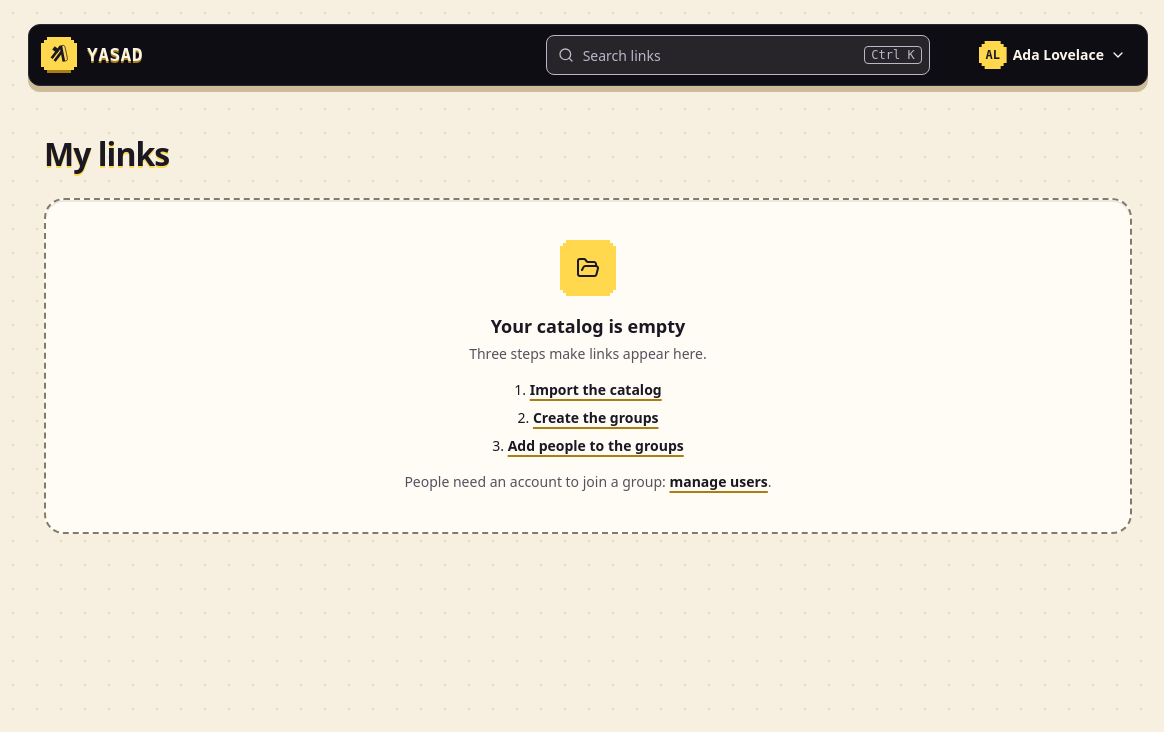
App › shows the account menu and signs out from it
This screenshot has width=1164, height=732.
Click the button with aria-label "Account menu for Ada Lovelace" at [1052, 55], box x1=970 y1=33 x2=1135 y2=77
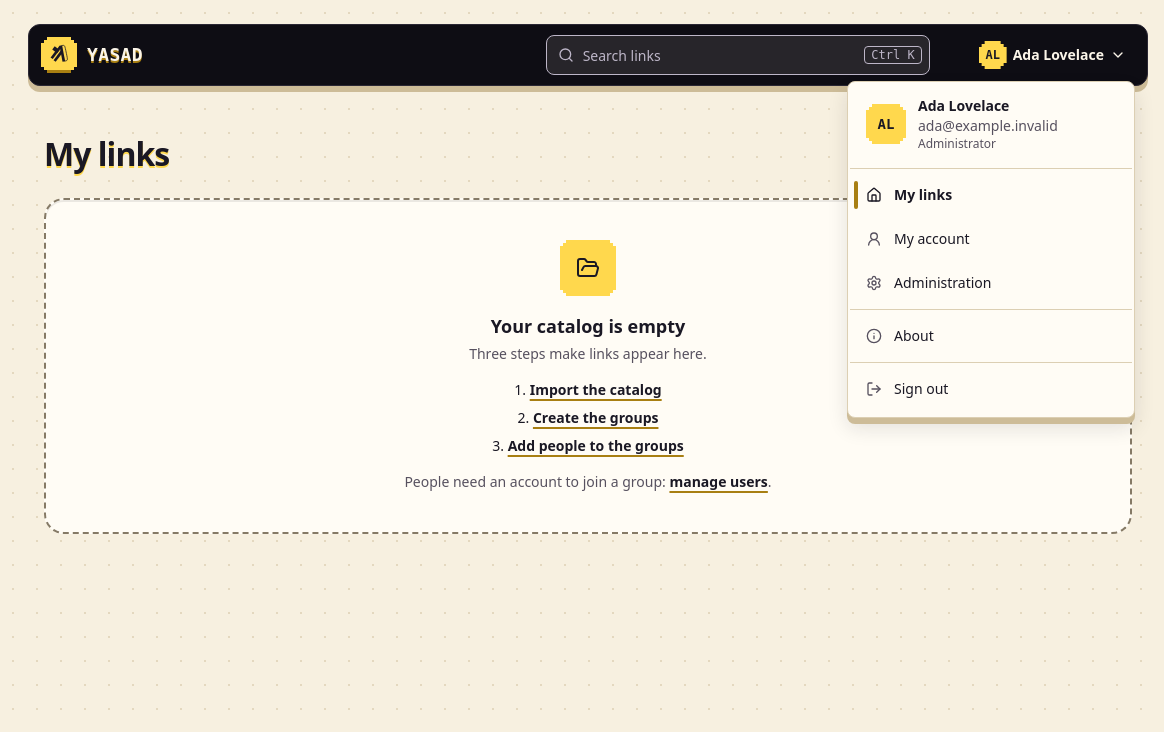
Expected: the menu shows "ada@example.invalid", x1=918 y1=116 x2=1058 y2=135
Expected: the menu shows "Administrator", x1=918 y1=135 x2=996 y2=152
Click the menu item "Sign out" at [907, 388], box x1=866 y1=379 x2=948 y2=398
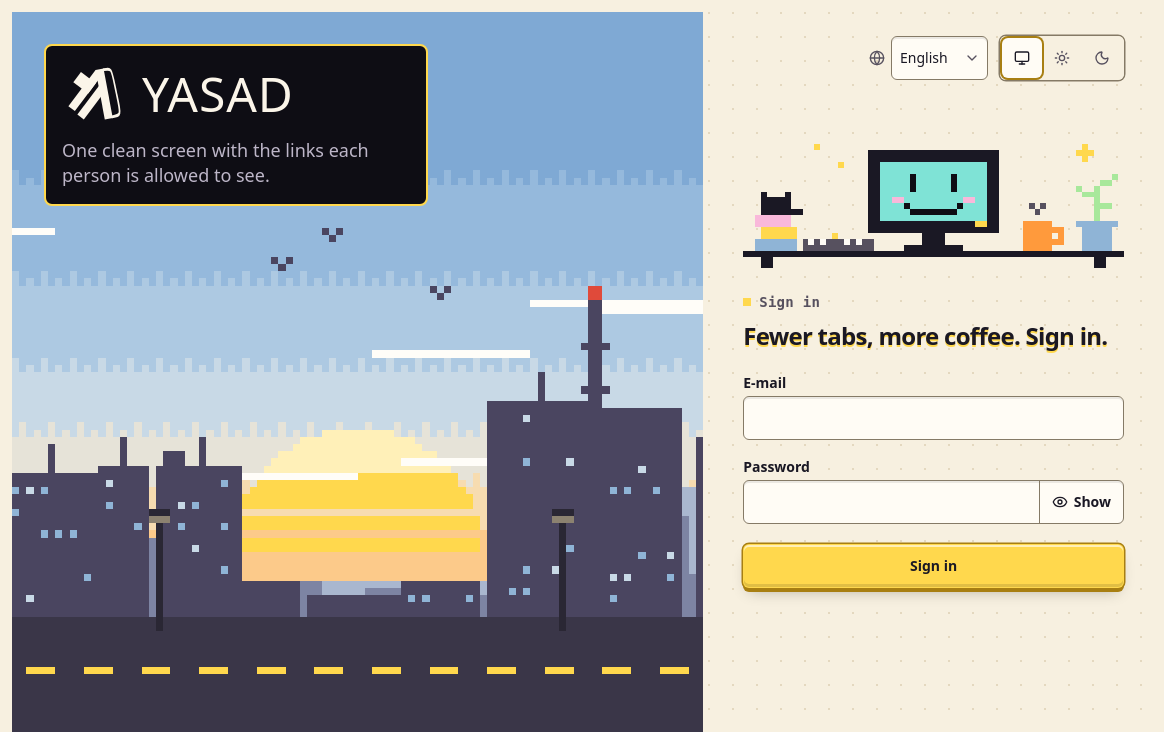
Expected: the heading "Sign in" is shown, x1=743 y1=294 x2=820 y2=310
